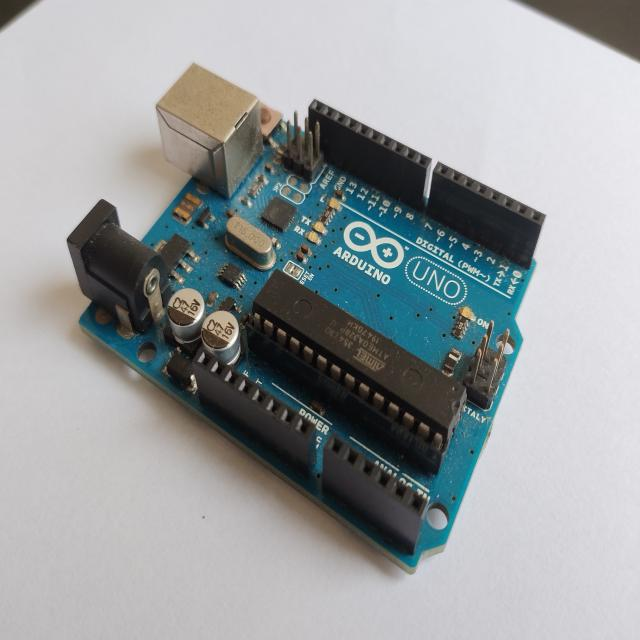arduino: (43, 53, 556, 588)
